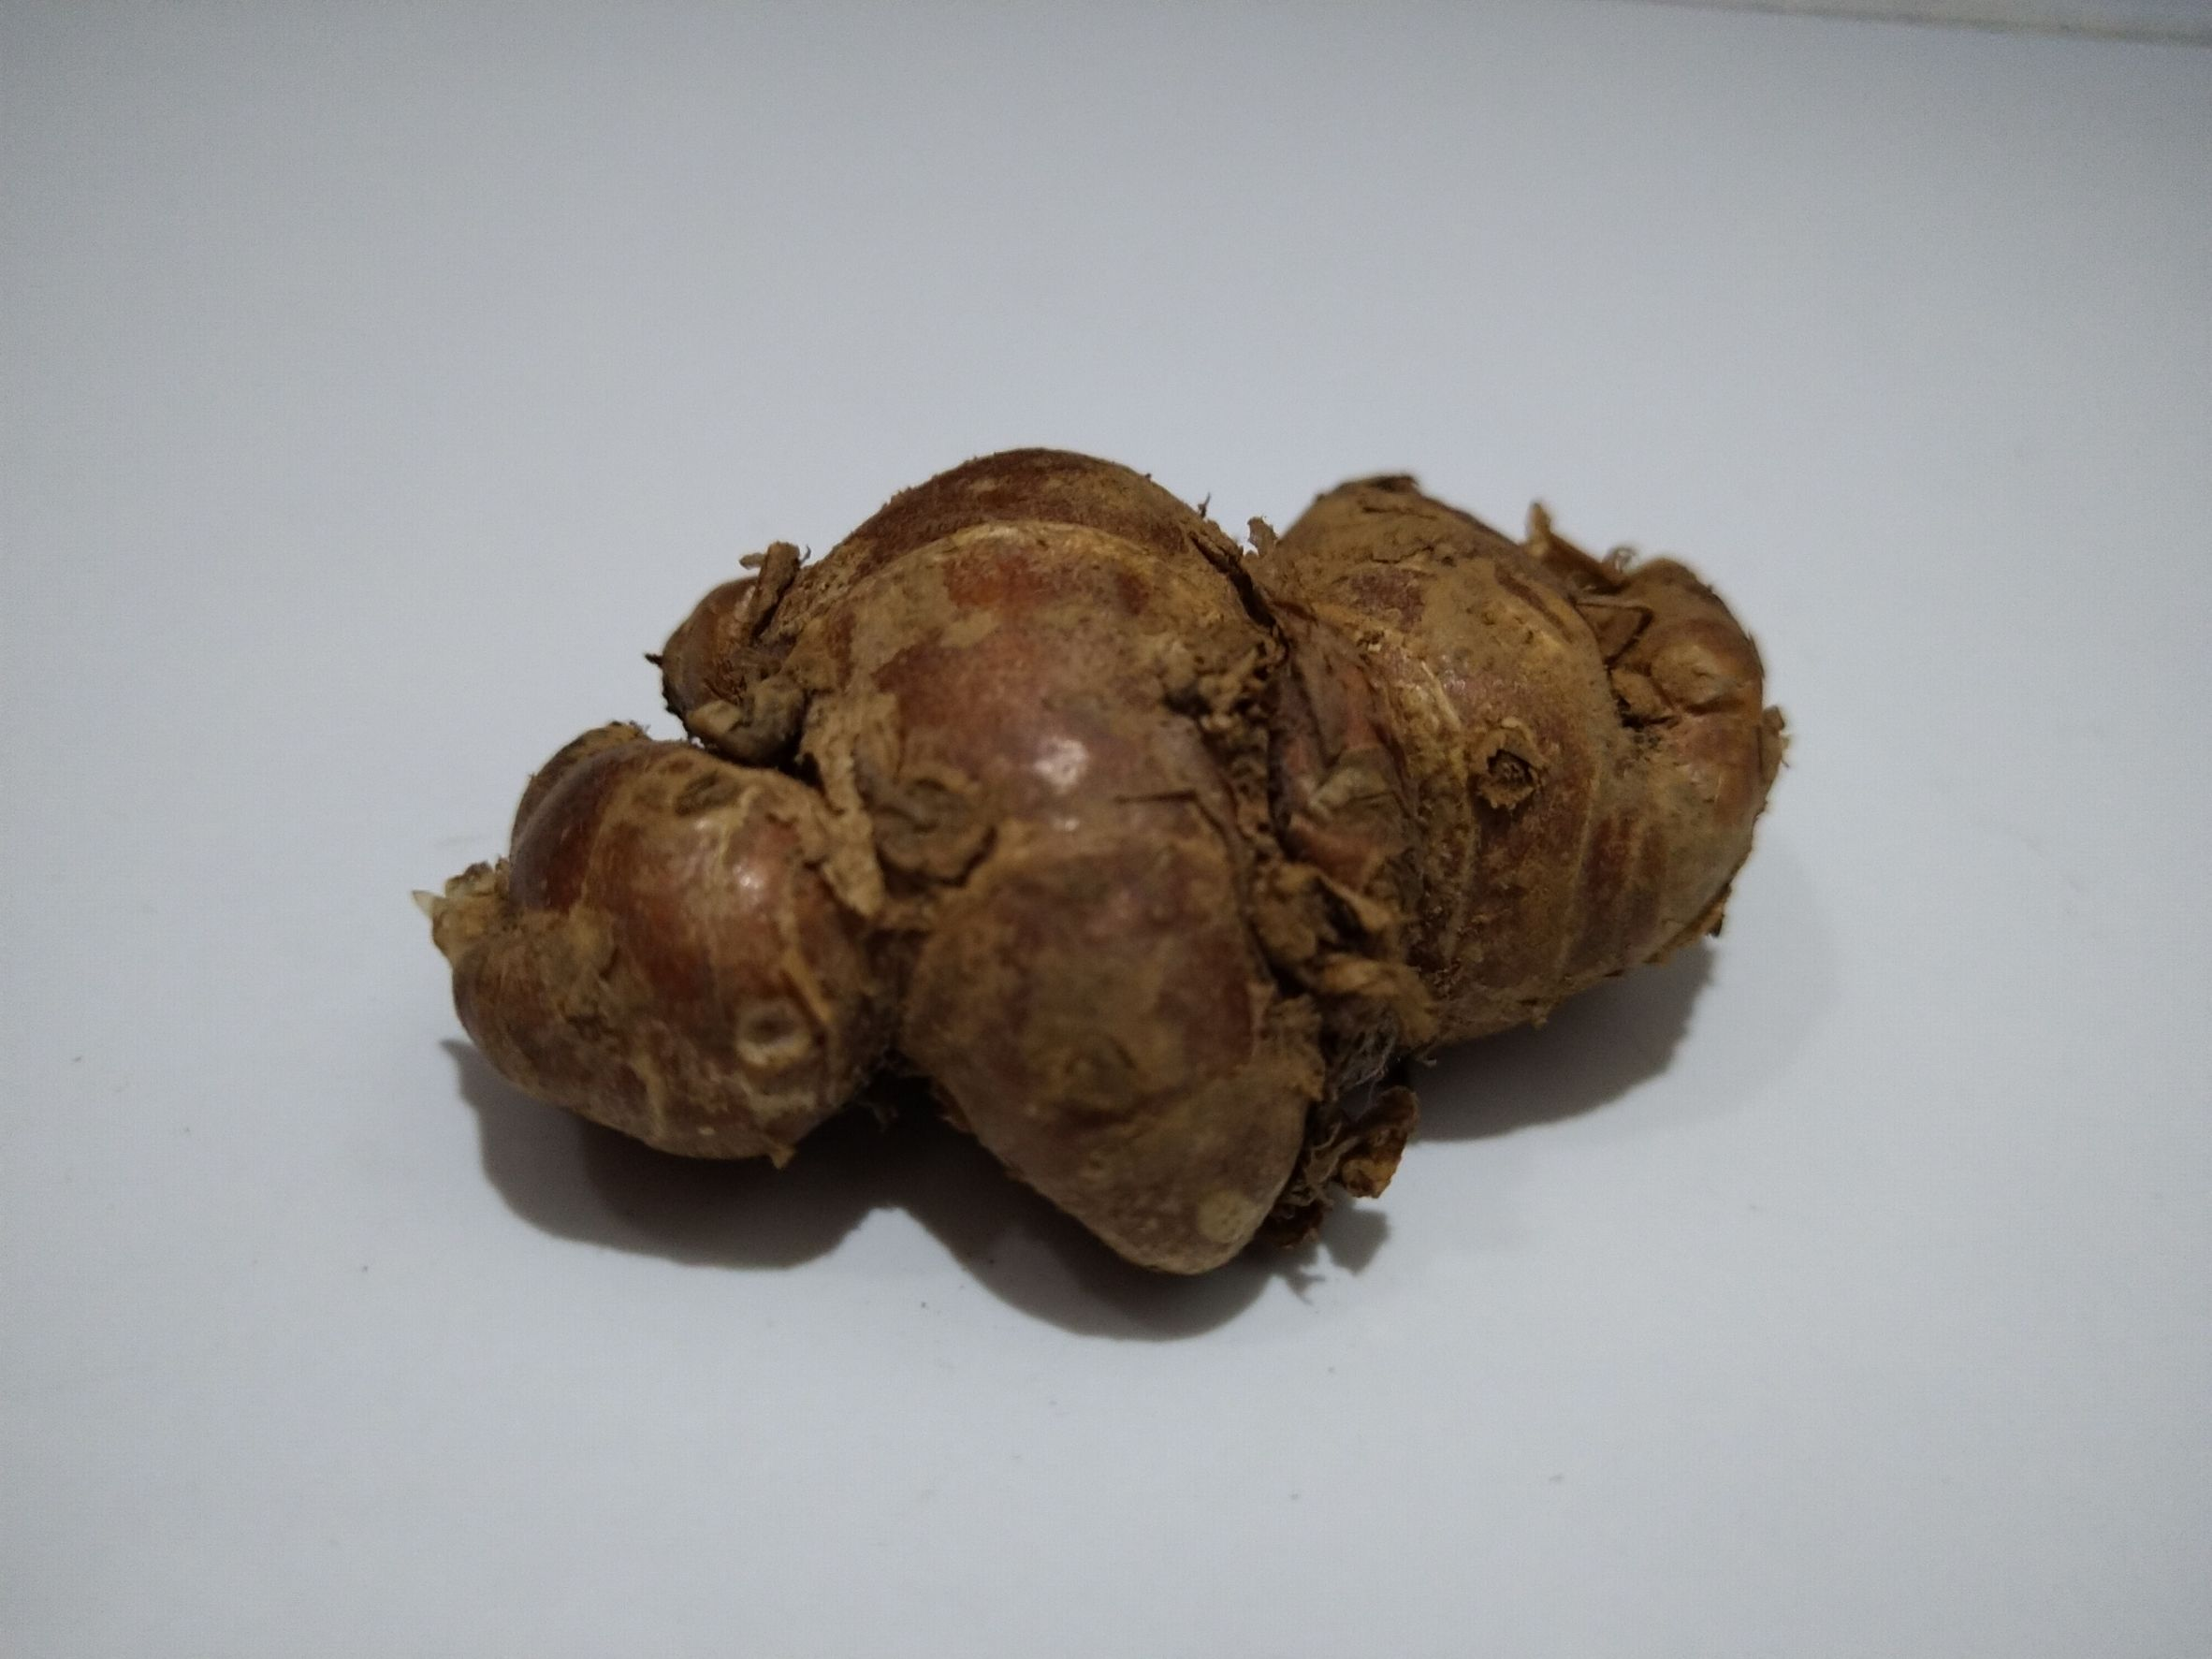Kencur: (427, 437, 1787, 1288)
